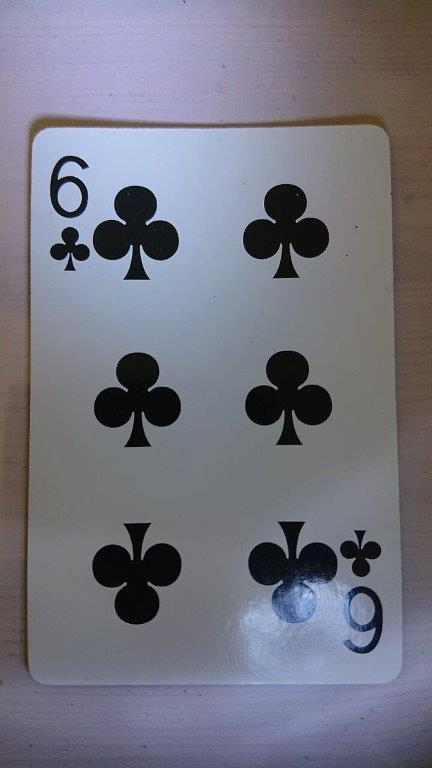6C: (24, 122, 404, 687)
